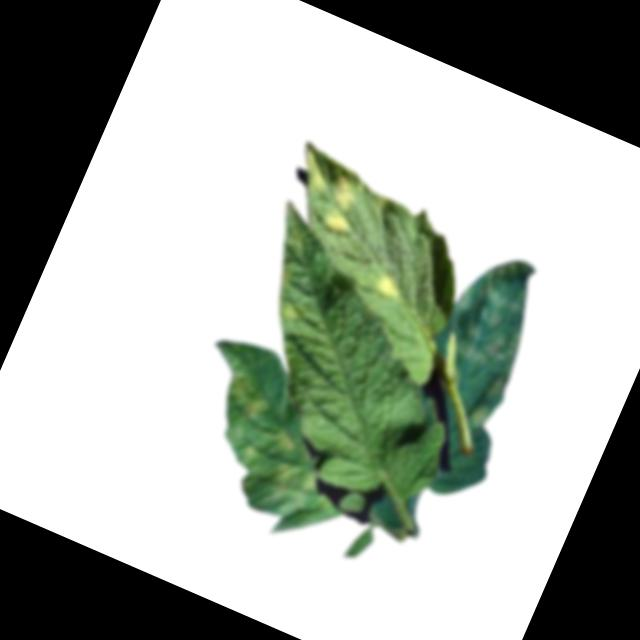Leaf_Mold: (183, 363, 369, 533), (412, 241, 558, 433), (276, 139, 381, 242), (275, 290, 320, 333), (370, 272, 408, 308)
